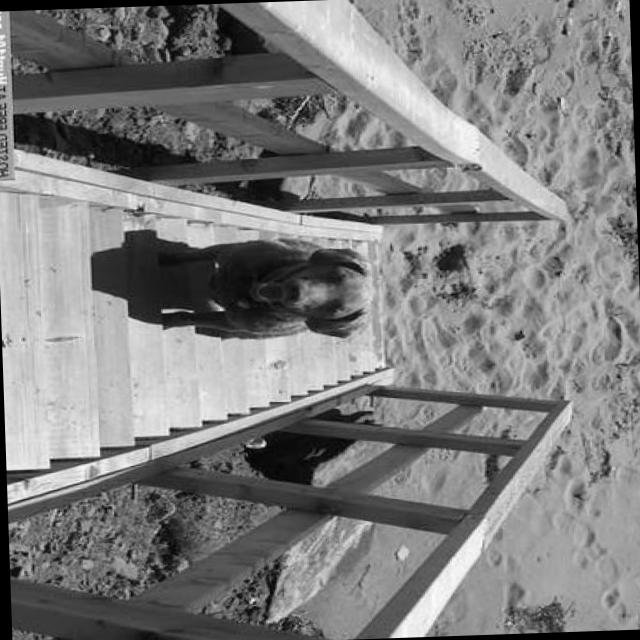sitting: (149, 228, 375, 349)
